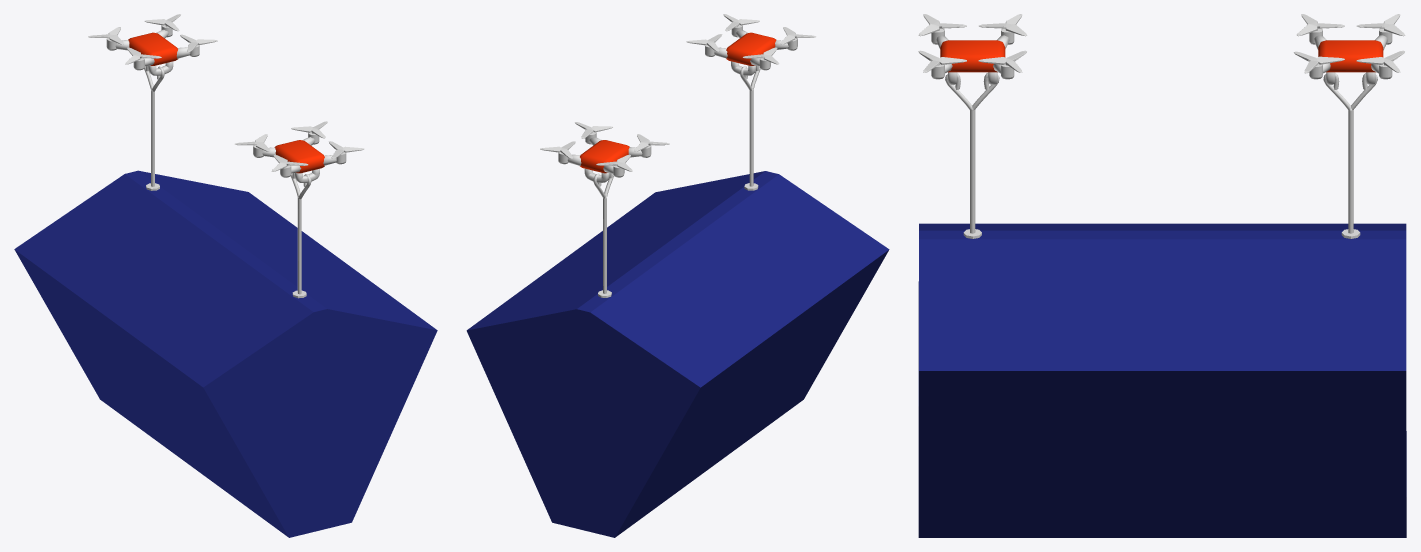
The model's file is DronV2.fbx.
3 views of the same model, side by side, from view 1: azimuth 30°, elevation 25°; view 2: azimuth 150°, elevation 25°; view 3: azimuth 270°, elevation 25° (orthographic). The views are drawn at different scales.
Visible parts, largest first — view 1: Cube.030, Cube.015, Cube.023; view 2: Cube.030, Cube.015, Cube.023; view 3: Cube.030, Cube.015, Cube.023, Cylinder.018, Cylinder.019.
Boxes of the visible parts, x1,y1,x2,y2 form: Cube.030: (14,170,437,537); Cube.015: (274,140,324,173); Cube.023: (128,32,177,65); Cube.030: (466,171,889,537); Cube.015: (726,32,776,65); Cube.023: (580,140,629,173); Cube.030: (918,223,1406,537); Cube.015: (940,40,1005,72); Cube.023: (1318,40,1383,72); Cylinder.018: (970,108,975,233); Cylinder.019: (1348,108,1353,233).
Bounding box in the file's own units: 1846 × 2784 × 2582.
